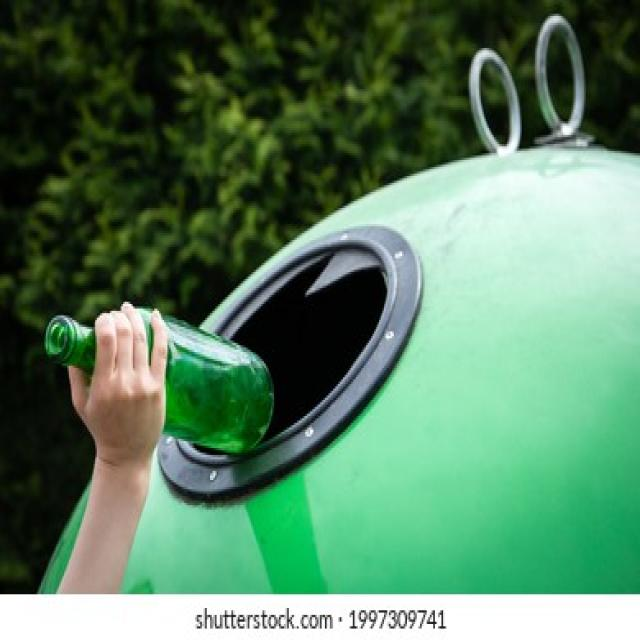glass: (39, 302, 280, 441)
